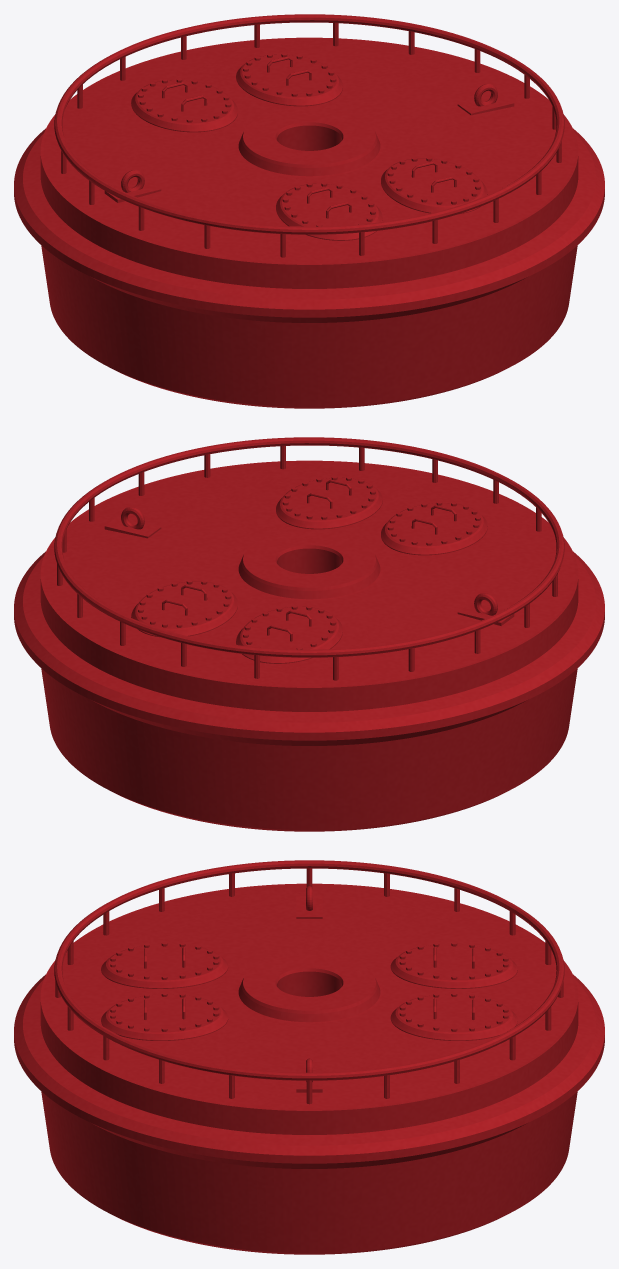
The model's file is NEW694_MooringBuoy_LOD0.glb.
The picture shows the model from 3 angles, top to bottom: view 1: azimuth 30°, elevation 25°; view 2: azimuth 150°, elevation 25°; view 3: azimuth 270°, elevation 25°; orthographic projection.
Visible parts, largest first — view 1: Buoy_body_integral_closed_hatches_central_through_bore, Four_closed_oval_hatch_covers_seated_on_deck, Low_circular_rail_and_twenty_attached_supports, Four_hatch_bolt_sets_and_eight_grab_handles, Two_lifting_eye_assemblies_with_attached_baseplates; view 2: Buoy_body_integral_closed_hatches_central_through_bore, Four_closed_oval_hatch_covers_seated_on_deck, Low_circular_rail_and_twenty_attached_supports, Four_hatch_bolt_sets_and_eight_grab_handles, Two_lifting_eye_assemblies_with_attached_baseplates; view 3: Buoy_body_integral_closed_hatches_central_through_bore, Four_closed_oval_hatch_covers_seated_on_deck, Low_circular_rail_and_twenty_attached_supports, Four_hatch_bolt_sets_and_eight_grab_handles, Two_lifting_eye_assemblies_with_attached_baseplates.
Part boxes in pixels (x1=…): Buoy_body_integral_closed_hatches_central_through_bore: x1=14, y1=37, x2=604, y2=408; Four_closed_oval_hatch_covers_seated_on_deck: x1=131, y1=54, x2=487, y2=240; Low_circular_rail_and_twenty_attached_supports: x1=54, y1=14, x2=564, y2=257; Four_hatch_bolt_sets_and_eight_grab_handles: x1=138, y1=53, x2=480, y2=226; Two_lifting_eye_assemblies_with_attached_baseplates: x1=104, y1=84, x2=514, y2=202; Buoy_body_integral_closed_hatches_central_through_bore: x1=14, y1=460, x2=604, y2=831; Four_closed_oval_hatch_covers_seated_on_deck: x1=131, y1=477, x2=487, y2=663; Low_circular_rail_and_twenty_attached_supports: x1=54, y1=437, x2=564, y2=680; Four_hatch_bolt_sets_and_eight_grab_handles: x1=138, y1=476, x2=480, y2=649; Two_lifting_eye_assemblies_with_attached_baseplates: x1=104, y1=507, x2=514, y2=625; Buoy_body_integral_closed_hatches_central_through_bore: x1=14, y1=883, x2=604, y2=1254; Four_closed_oval_hatch_covers_seated_on_deck: x1=101, y1=944, x2=517, y2=1040; Low_circular_rail_and_twenty_attached_supports: x1=54, y1=860, x2=564, y2=1104; Four_hatch_bolt_sets_and_eight_grab_handles: x1=110, y1=942, x2=508, y2=1031; Two_lifting_eye_assemblies_with_attached_baseplates: x1=296, y1=886, x2=322, y2=1092.
Size of the model in its own units: 2 by 0.6733 by 2.
Materials: 1 (1 with a texture image).
